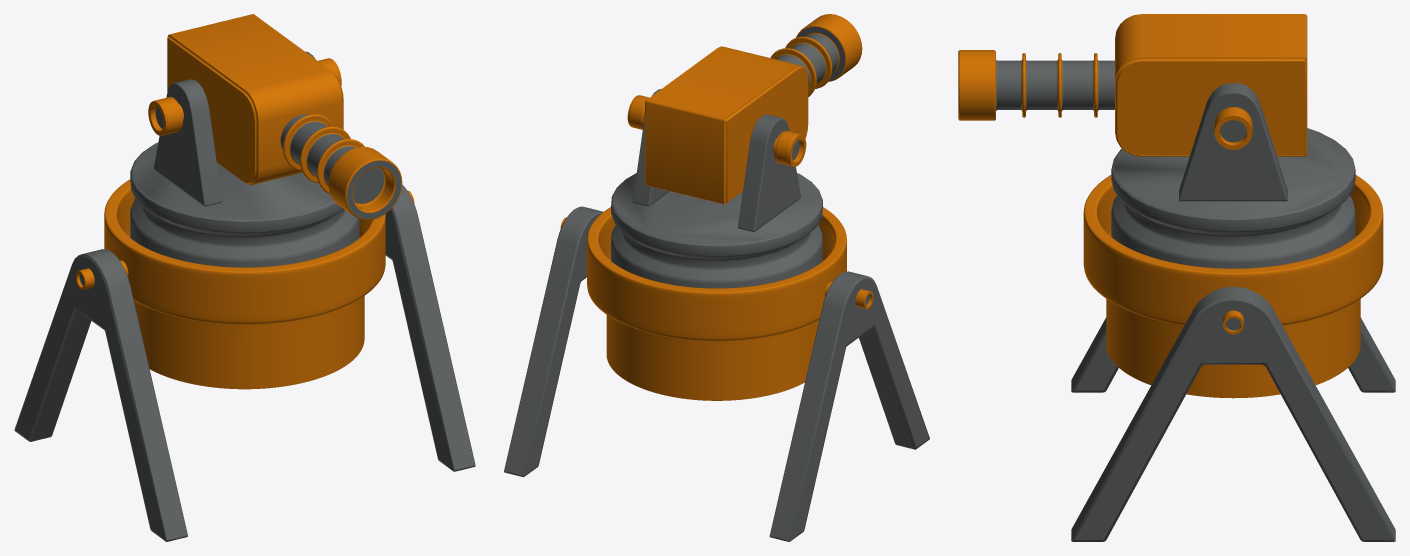
Rendered from Turret.fbx.
3 views of the same model, side by side, from view 1: azimuth 30°, elevation 25°; view 2: azimuth 150°, elevation 25°; view 3: azimuth 270°, elevation 25° (orthographic). The views are drawn at different scales.
Parts seen in each view (by area): view 1: Turret stand, Cylinder.003; view 2: Turret stand, Cylinder.003; view 3: Cylinder.003, Turret stand.
Part boxes in pixels (<box>): Turret stand: <box>14,179,475,541</box>; Cylinder.003: <box>130,14,402,267</box>; Turret stand: <box>504,206,929,541</box>; Cylinder.003: <box>611,14,862,288</box>; Cylinder.003: <box>958,14,1355,268</box>; Turret stand: <box>1071,175,1395,541</box>.
Size of the model in its own units: 112 by 131 by 121.
